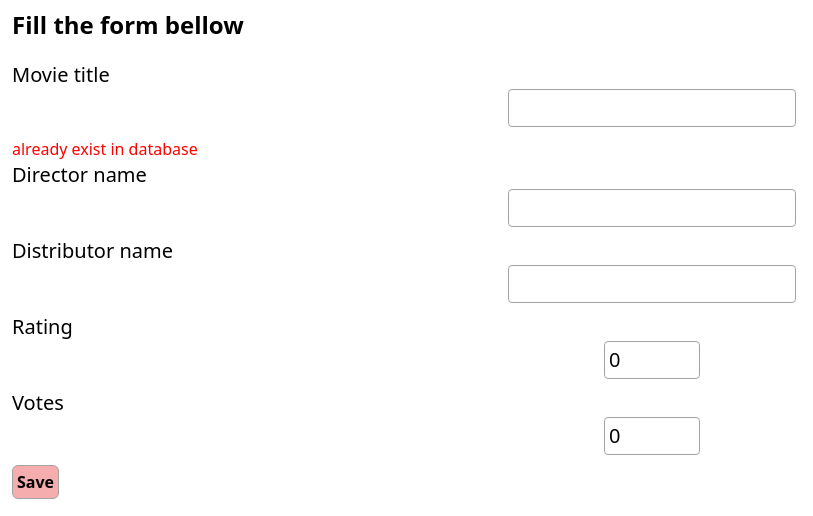
Scenario: Test the AddMovieFormComponent › validation length movie title name should fail
Type "sssssssssssssssssssssssssssssssssssssssssssssssssssssss" into the field with test id "movieTitle" at x=652, y=108, box [508, 89, 796, 127]
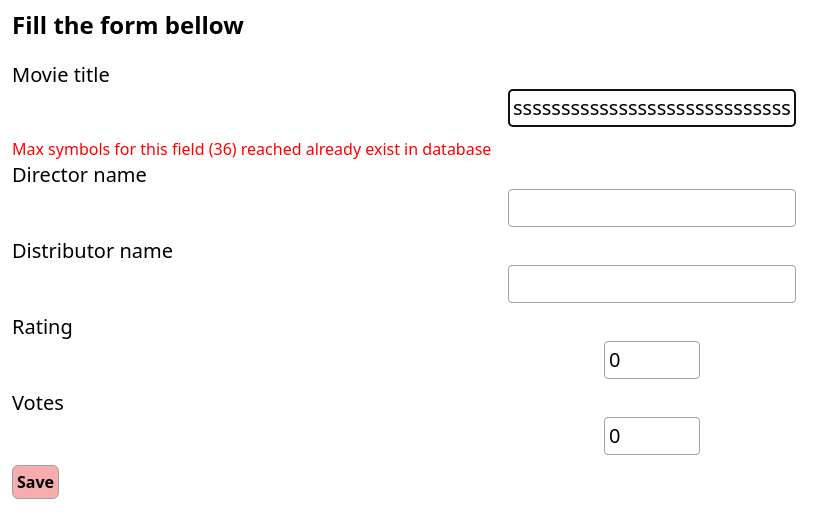
Expected: the button with test id "addMovieSubmit" is disabled, [12, 465, 59, 499]
Expected: the text with test id "movieTitleError" shows "Max symbols for this field (36) reached", [12, 138, 302, 160]
